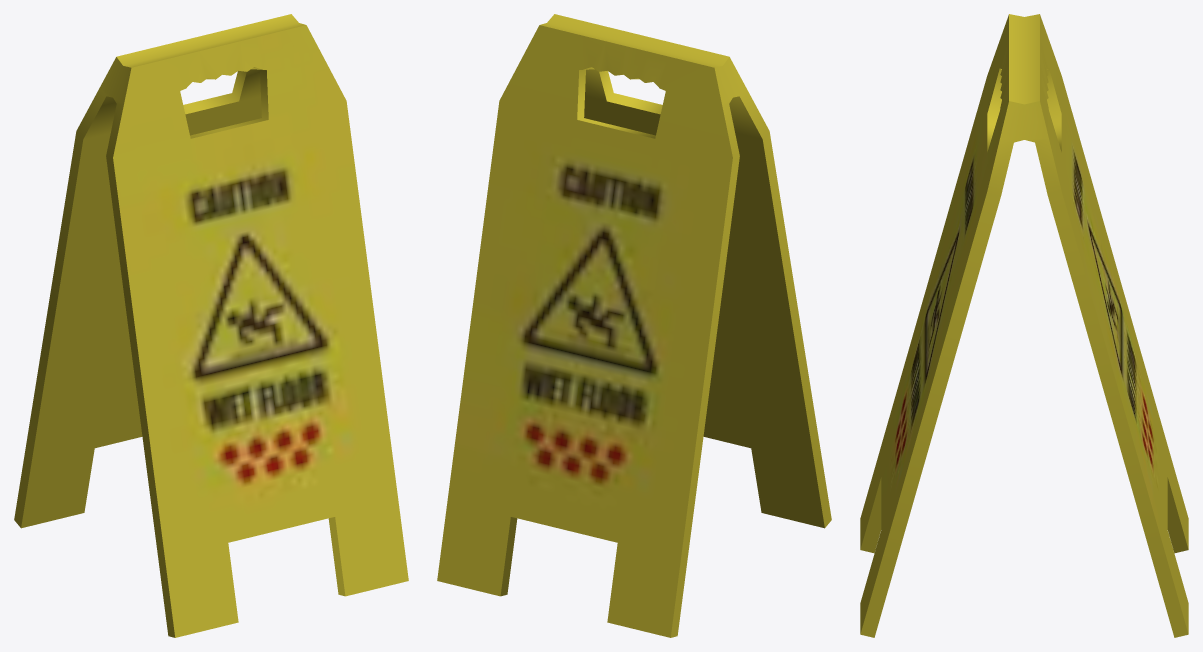
Rendered from cc0_wet_floor_sign.glb.
The picture shows the model from 3 angles, left to right: view 1: azimuth 30°, elevation 25°; view 2: azimuth 150°, elevation 25°; view 3: azimuth 270°, elevation 25°; orthographic projection.
Visible parts, largest first — view 1: WetFloorSign_01; view 2: WetFloorSign_01; view 3: WetFloorSign_01.
Boxes of the visible parts, box(x1,y1,x2,y2) form: WetFloorSign_01: box(14, 14, 408, 637); WetFloorSign_01: box(437, 14, 831, 637); WetFloorSign_01: box(860, 14, 1188, 637).
Bounding box in the file's own units: 0.3001 × 0.6295 × 0.3585.
Materials: 1 (1 with a texture image).
